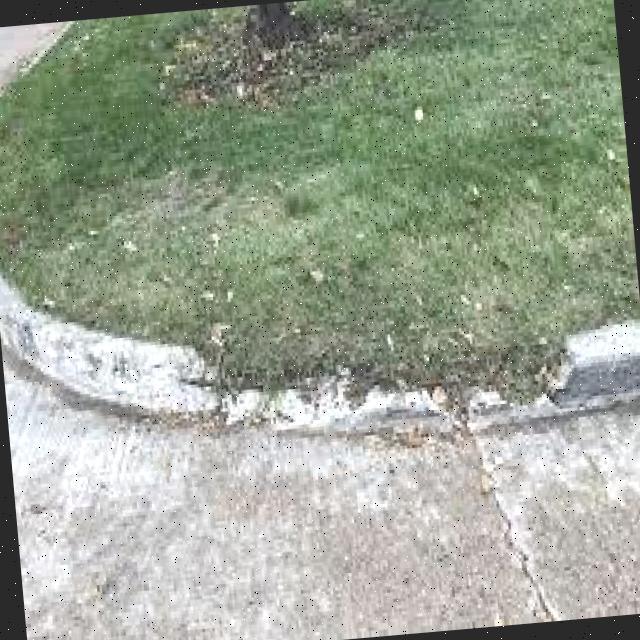curb: (1, 277, 223, 416), (467, 332, 640, 438), (223, 376, 451, 442)
